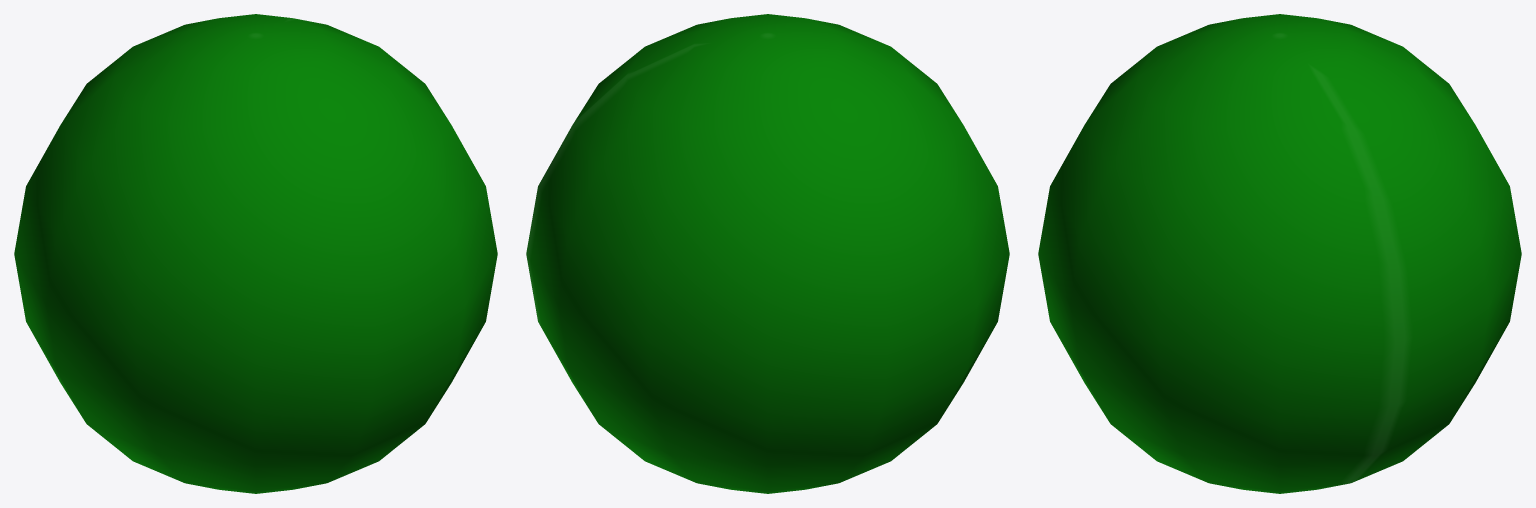
File: Valence_electrons.gltf
The picture shows the model from 3 angles, left to right: view 1: azimuth 30°, elevation 25°; view 2: azimuth 150°, elevation 25°; view 3: azimuth 270°, elevation 25°; orthographic projection.
Visible parts, largest first — view 1: Valence_electrons_8; view 2: Valence_electrons_8; view 3: Valence_electrons_8.
Boxes of the visible parts, bbox=[...] form: Valence_electrons_8: bbox=[14, 14, 497, 493]; Valence_electrons_8: bbox=[526, 14, 1009, 493]; Valence_electrons_8: bbox=[1038, 14, 1521, 493].
Size of the model in its own units: 0.12 by 0.12 by 0.12.
Materials: 1 (1 with a texture image).
